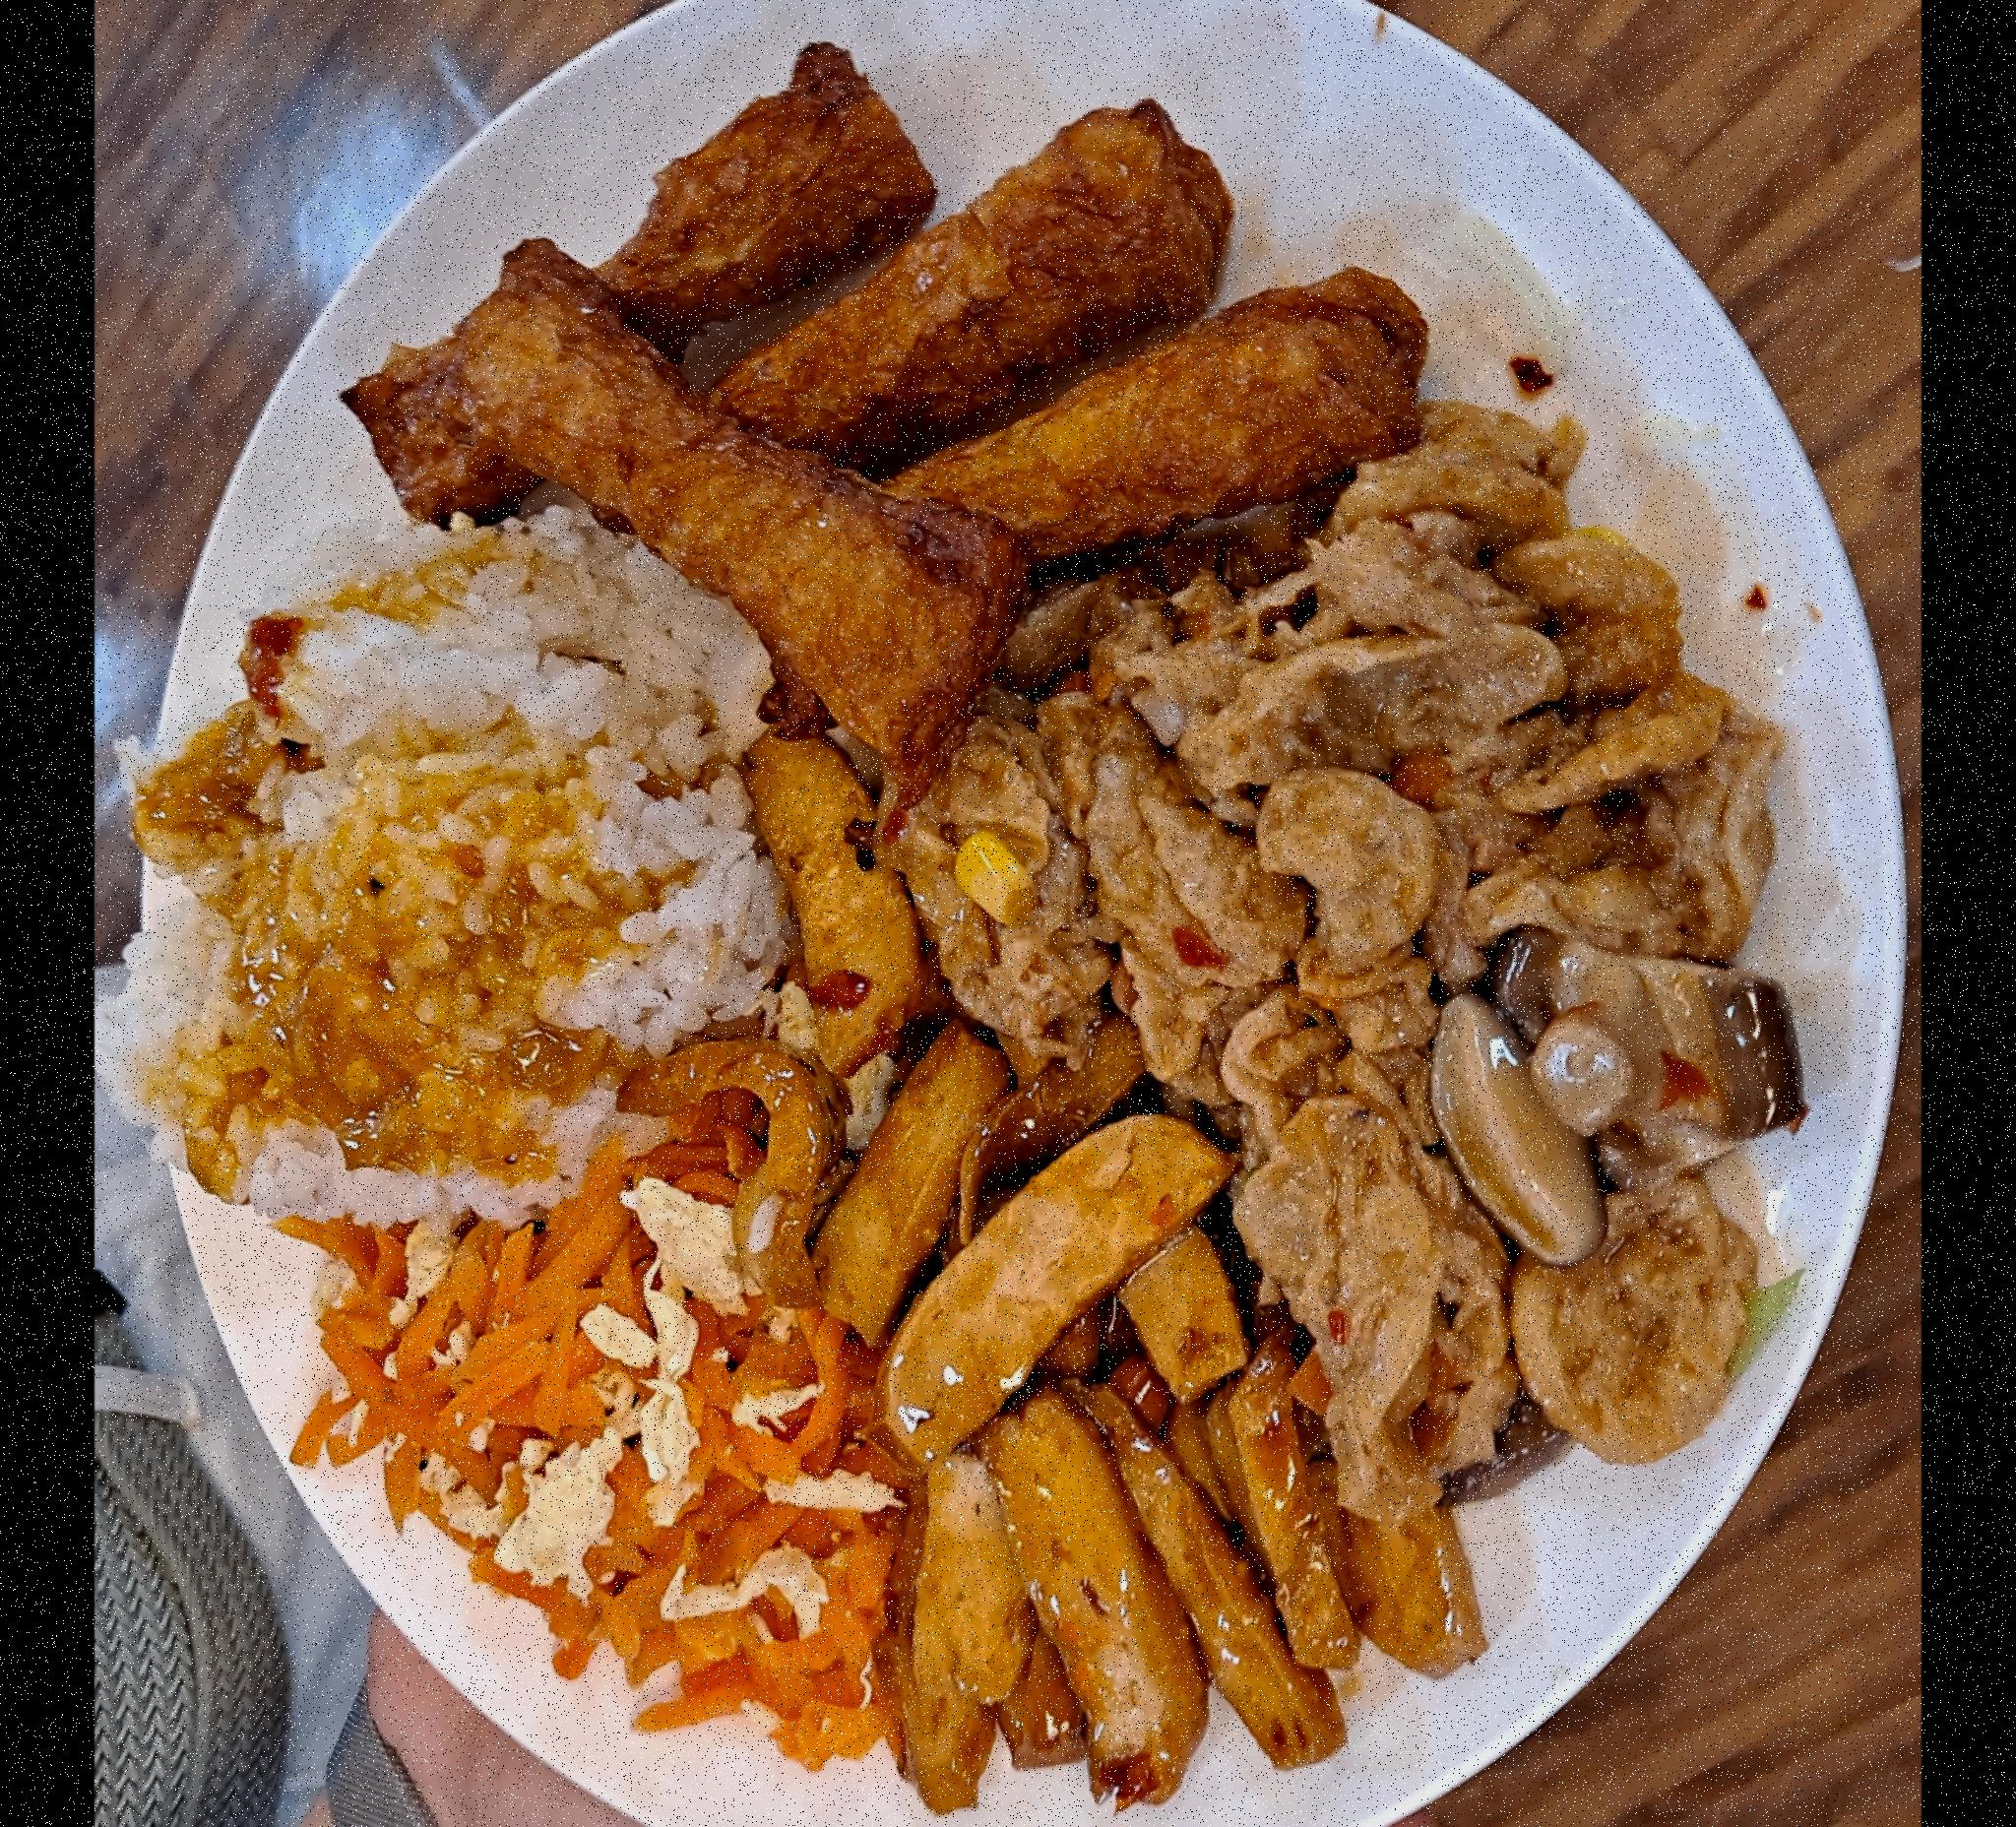big fried chicken leg: (128, 0, 1921, 1827)
big herbal chicken leg: (150, 502, 780, 1240)
braised fish fillet: (881, 446, 1798, 1504), (656, 753, 1488, 1804), (272, 1179, 904, 1756)
braised pork: (321, 12, 1431, 742)
